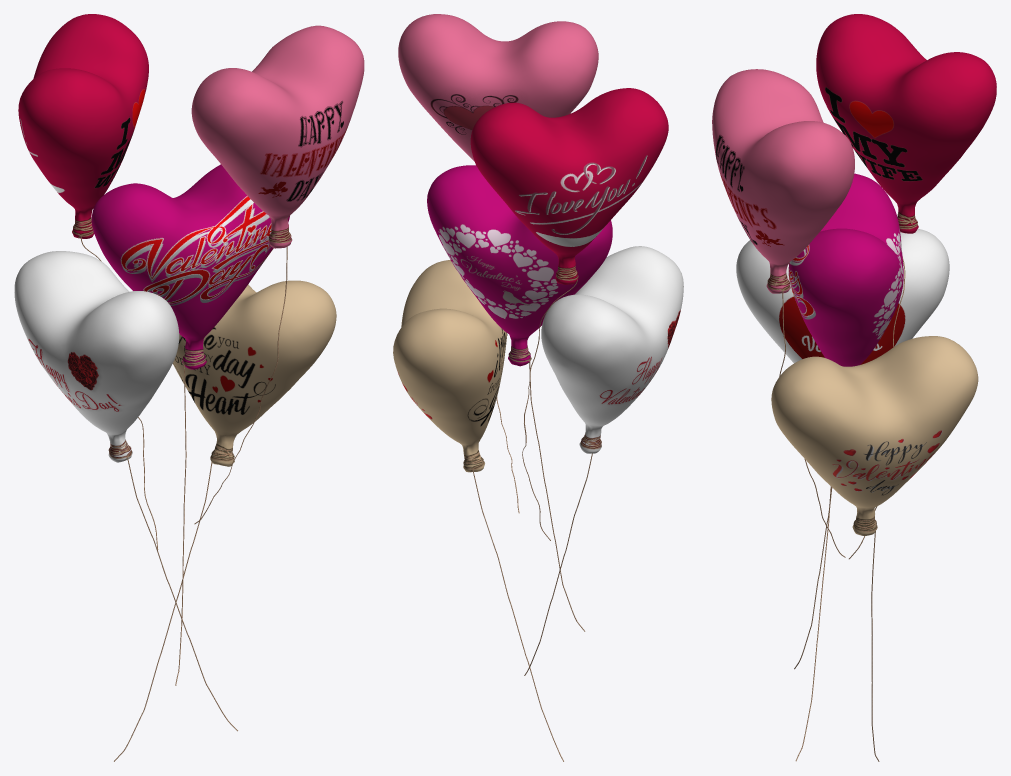
The picture shows the model from 3 angles, left to right: view 1: azimuth 30°, elevation 25°; view 2: azimuth 150°, elevation 25°; view 3: azimuth 270°, elevation 25°; orthographic projection. The views are drawn at different scales.
Parts seen in each view (by area): view 1: Air_baloon_var3; view 2: Air_baloon_var3; view 3: Air_baloon_var3.
Part boxes in pixels (box(x1,y1,x2,y2)): Air_baloon_var3: box(14, 14, 364, 761); Air_baloon_var3: box(393, 14, 683, 761); Air_baloon_var3: box(712, 14, 996, 761).
Bounding box in the file's own units: 205 × 463 × 166.
5 materials, 5 textured.
